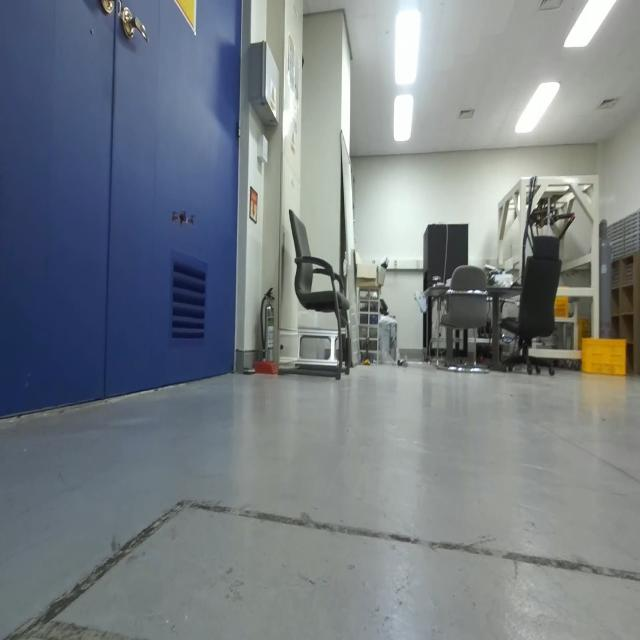crazyflie: (168, 201, 198, 237)
